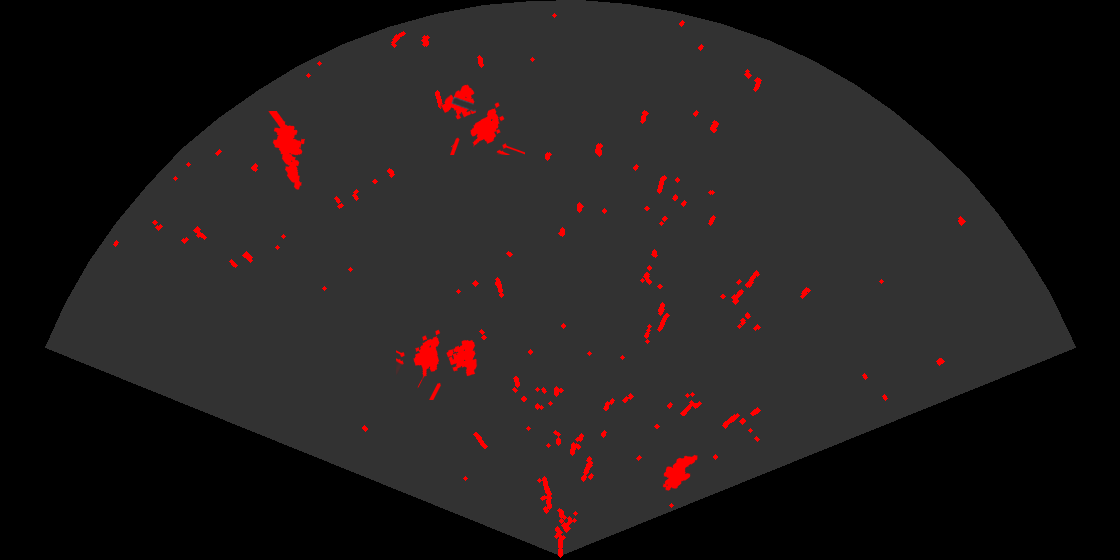AUV: (661, 453, 699, 492)
cage: (440, 83, 525, 155), (396, 328, 479, 400)
frogman: (267, 111, 307, 191)
